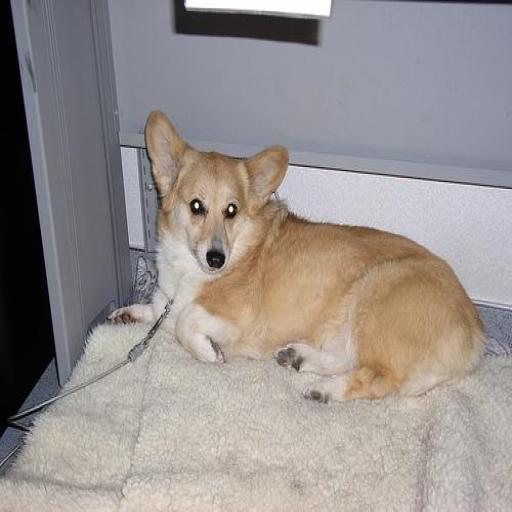dog_face: (142, 117, 288, 276)
